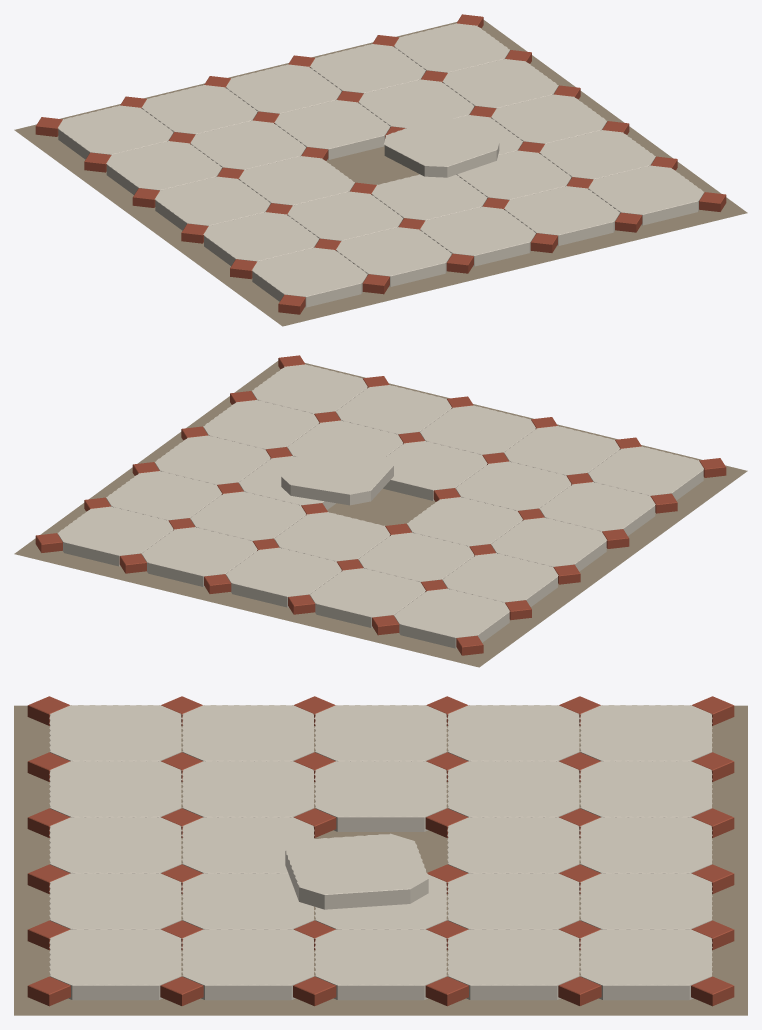
The model's file is terilgan.glb.
3 views of the same model, one above another, from view 1: azimuth 30°, elevation 25°; view 2: azimuth 150°, elevation 25°; view 3: azimuth 270°, elevation 25° (orthographic). The views are drawn at different scales.
Parts seen in each view (by area): view 1: qum, t.012, t, t.001, t.002, t.003, t.017, t.004, t.010, t.015, t.020, t.005 (+14 smaller); view 2: qum, t.012, t.020, t.021, t.022, t.023, t.024, t.010, t.005, t, t.015, t.007 (+14 smaller); view 3: qum, t.012, t.009, t.019, t.004, t.024, t.014, t.011, t.018, t.003, t.023, t.017 (+32 smaller).
Part boxes in pixels (<box>): qum: <box>14,20,747,326</box>; t.012: <box>384,117,499,177</box>; t: <box>252,247,367,307</box>; t.001: <box>336,227,451,286</box>; t.002: <box>420,206,535,266</box>; t.003: <box>504,186,619,245</box>; t.017: <box>274,100,390,159</box>; t.004: <box>588,165,703,225</box>; t.010: <box>154,176,270,230</box>; t.015: <box>106,141,222,194</box>; t.020: <box>58,105,173,159</box>; t.005: <box>203,212,319,265</box>; qum: <box>14,361,747,667</box>; t.012: <box>281,446,393,505</box>; t.020: <box>394,588,509,648</box>; t.021: <box>310,568,425,627</box>; t.022: <box>226,547,341,607</box>; t.023: <box>142,527,257,586</box>; t.024: <box>58,506,173,566</box>; t.010: <box>491,517,607,571</box>; t.005: <box>539,482,655,535</box>; t: <box>588,446,703,500</box>; t.015: <box>442,553,558,606</box>; t.007: <box>383,441,487,500</box>; qum: <box>14,705,747,1015</box>; t.012: <box>285,833,428,909</box>; t.009: <box>182,929,314,1000</box>; t.019: <box>447,929,579,1000</box>; t.004: <box>49,929,181,1000</box>; t.024: <box>580,929,712,1000</box>; t.014: <box>314,929,447,1000</box>; t.011: <box>314,761,447,831</box>; t.018: <box>447,873,579,929</box>; t.003: <box>49,873,181,929</box>; t.023: <box>580,873,712,929</box>; t.017: <box>447,817,579,873</box>.
Bounding box in the file's own units: 1.66 × 0.078 × 1.66.
